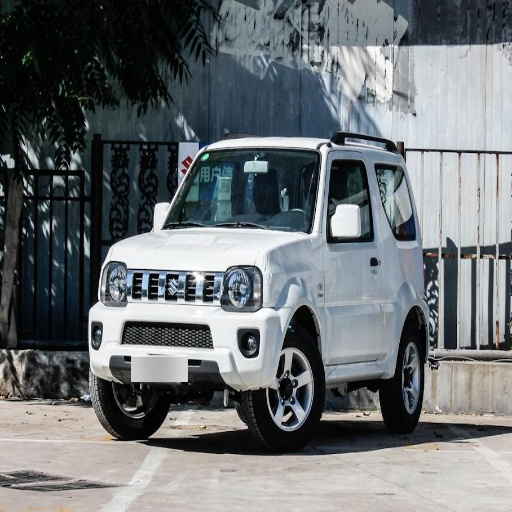front_bumper: (88, 264, 290, 389)
front_glass: (163, 152, 318, 231)
front_left_door: (328, 152, 379, 364)
trunk: (392, 259, 422, 326)
